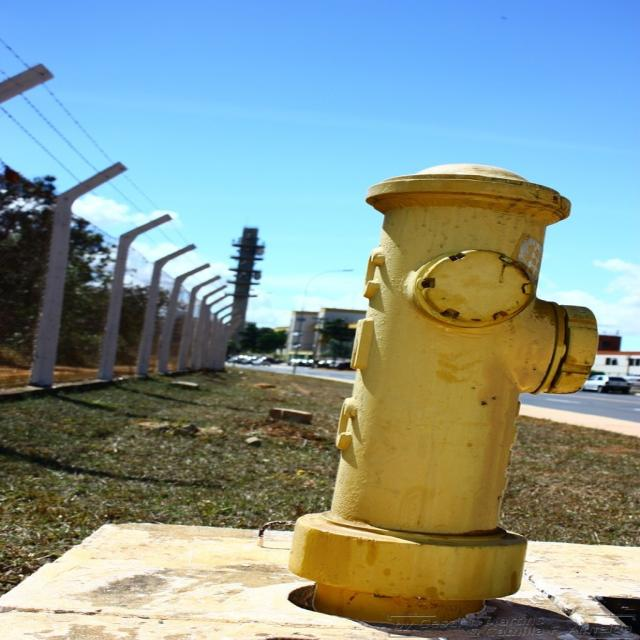fire_hydrant: (289, 162, 603, 629)
